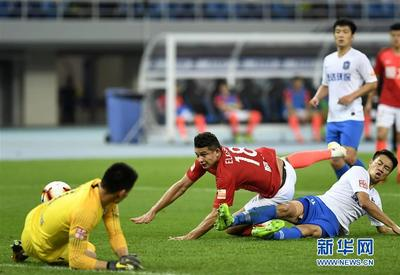fall: (149, 120, 330, 241)
